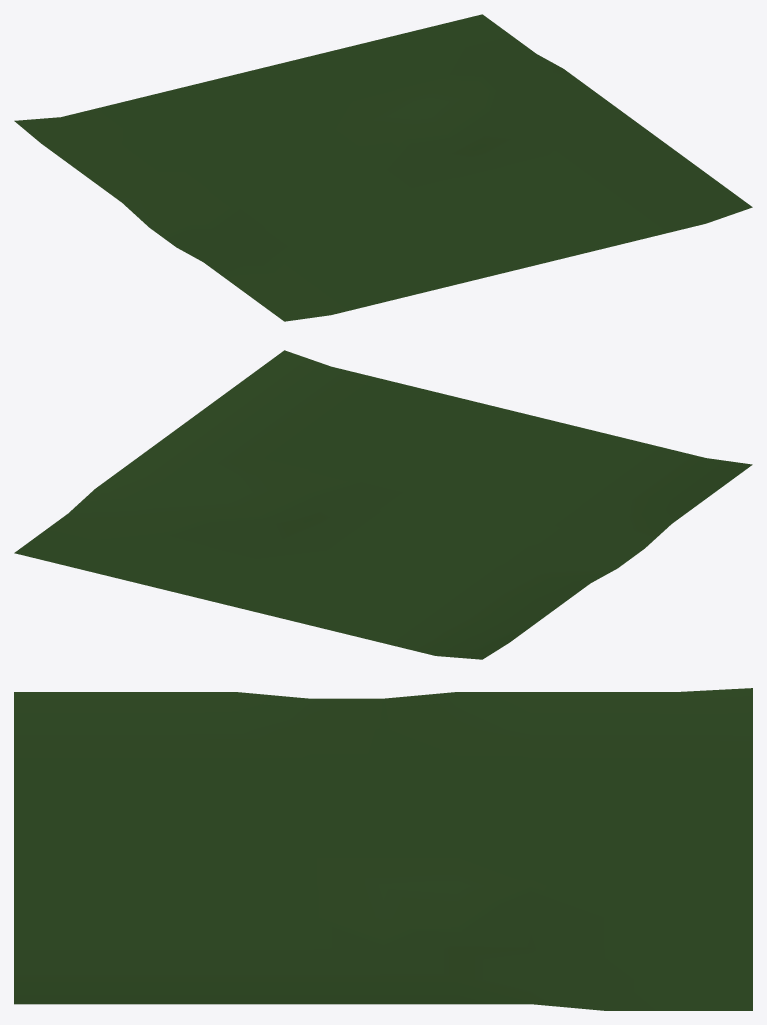
The picture shows the model from 3 angles, top to bottom: view 1: azimuth 30°, elevation 25°; view 2: azimuth 150°, elevation 25°; view 3: azimuth 270°, elevation 25°; orthographic projection. The views are drawn at different scales.
Visible parts, largest first — view 1: TerrainModel.065; view 2: TerrainModel.065; view 3: TerrainModel.065.
Part boxes in pixels (x1,y1,x2,y2): TerrainModel.065: [14, 14, 752, 321]; TerrainModel.065: [14, 350, 752, 659]; TerrainModel.065: [14, 688, 752, 1010].
Bounding box in the file's own units: 19608 × 702 × 19608.
